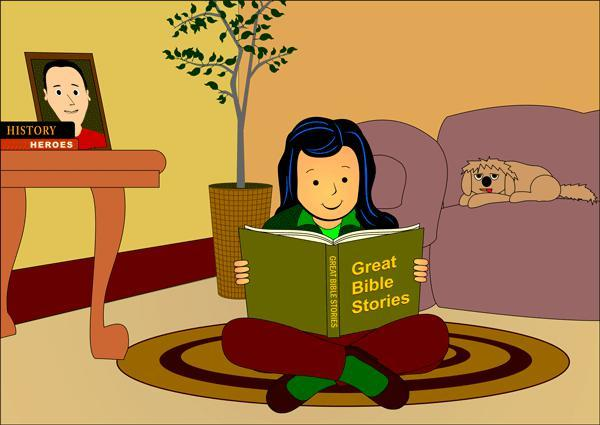dog: (456, 157, 599, 213)
person: (217, 116, 449, 415), (34, 58, 109, 147)
pottedplant: (159, 1, 302, 303)
sofa: (325, 101, 599, 325)
